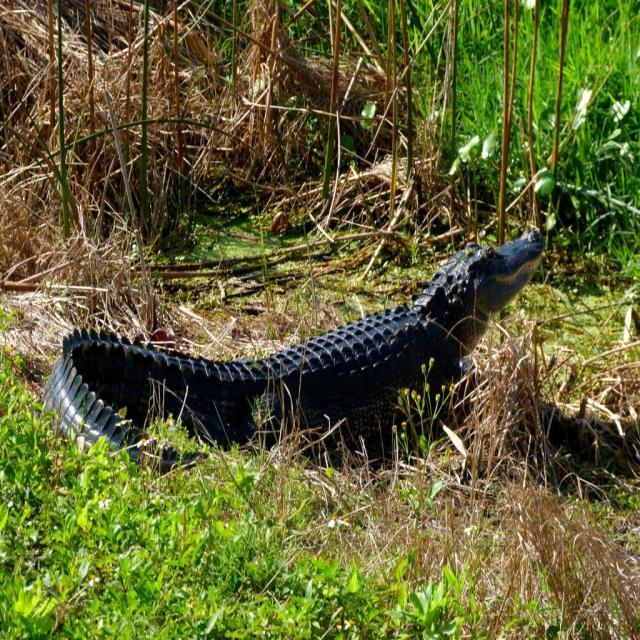crocodile: (37, 221, 549, 477)
